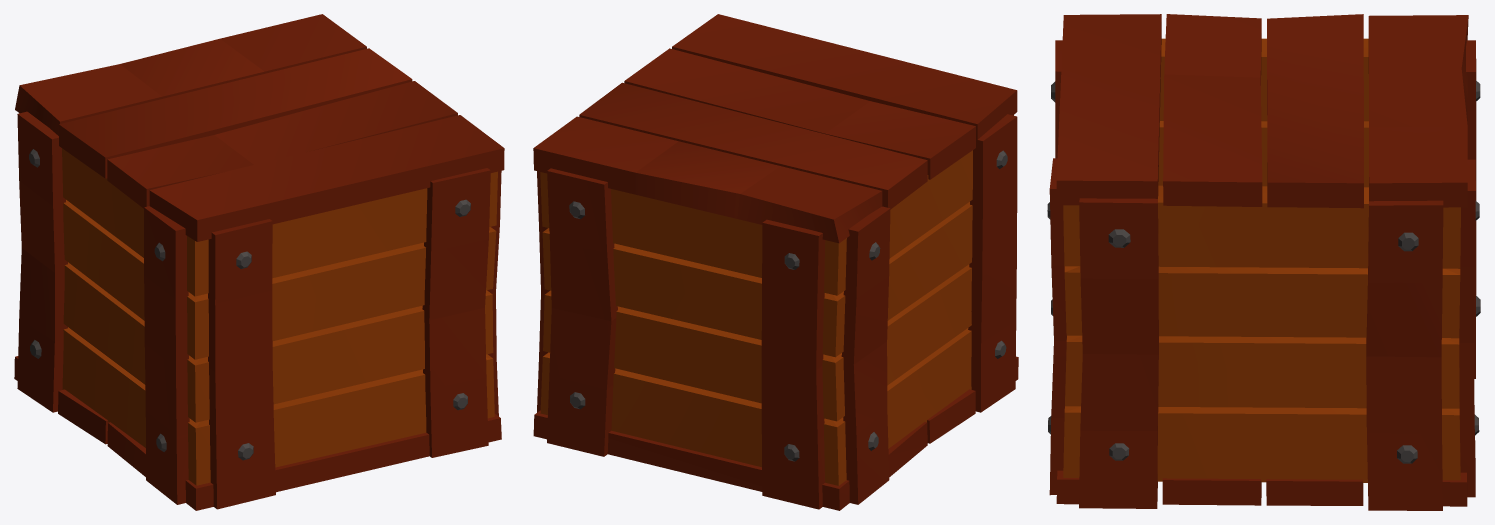
Rendered from winter_castle_item20.glb.
The picture shows the model from 3 angles, left to right: view 1: azimuth 30°, elevation 25°; view 2: azimuth 150°, elevation 25°; view 3: azimuth 270°, elevation 25°; orthographic projection. The views are drawn at different scales.
Parts seen in each view (by area): view 1: Item20_Medieval_0; view 2: Item20_Medieval_0; view 3: Item20_Medieval_0.
Boxes of the visible parts, box(x1,y1,x2,y2) form: Item20_Medieval_0: box(14, 14, 504, 510); Item20_Medieval_0: box(533, 14, 1018, 510); Item20_Medieval_0: box(1047, 14, 1480, 510).
Bounding box in the file's own units: 0.6418 × 0.5419 × 0.6515.
Materials: 1 (1 with a texture image).
